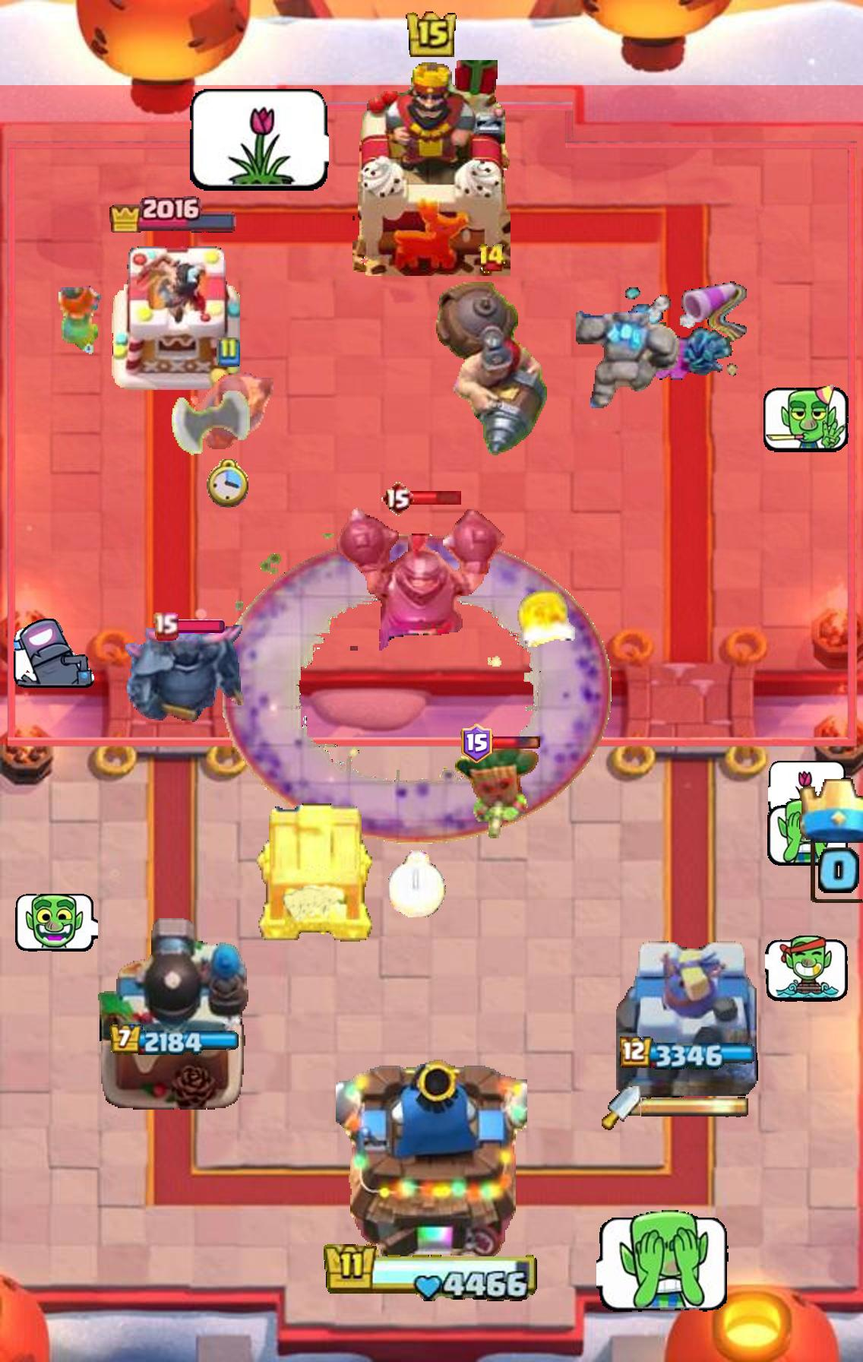bar: (410, 489, 463, 507), (489, 736, 541, 751), (175, 619, 225, 633)
bar-level: (461, 724, 493, 763), (381, 480, 414, 516), (477, 243, 506, 274), (153, 612, 179, 641)
